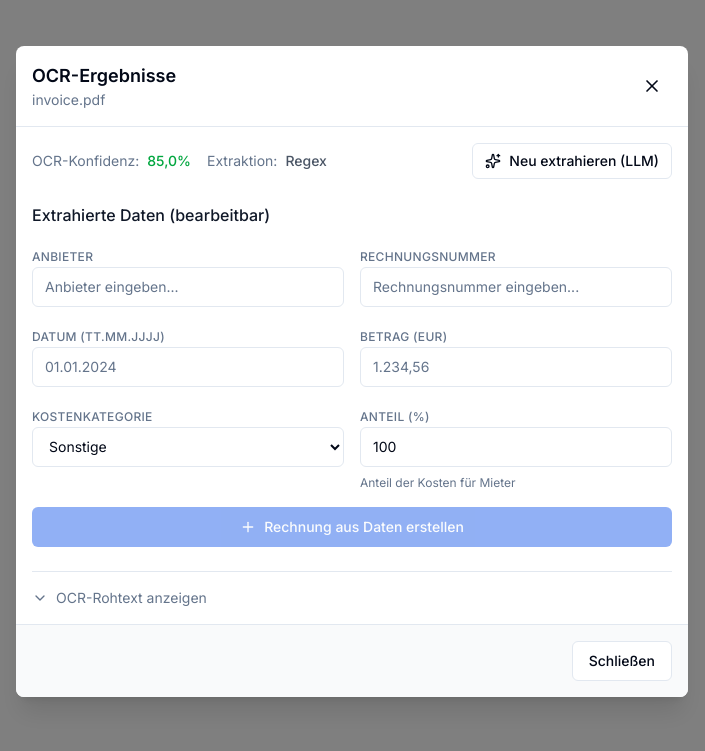
OcrModal › raw text toggle › toggles raw text visibility
Expected: the text "Raw OCR content here" is not shown
Click to show
Click the button "OCR-Rohtext anzeigen" at (119, 598), box [32,588,207,608]
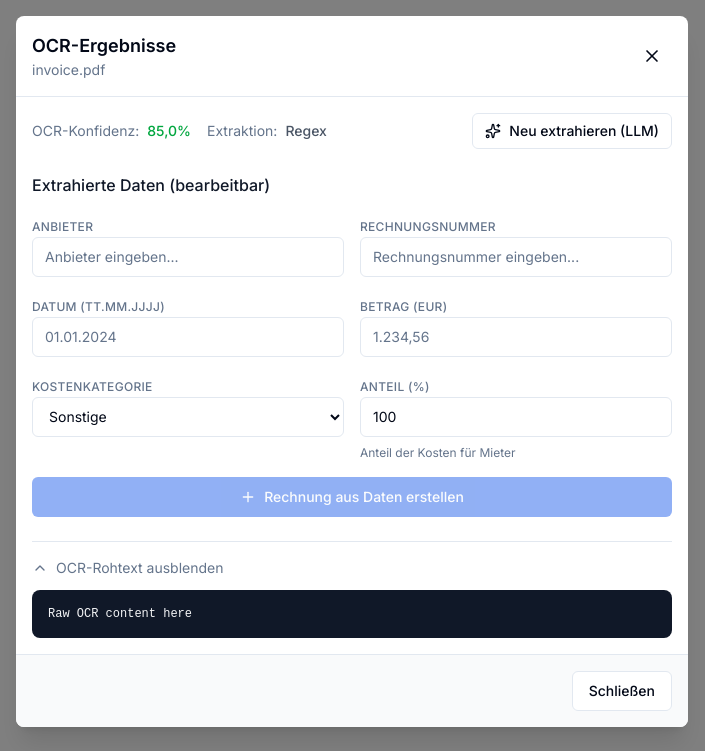
Result: the text "Raw OCR content here" is shown at [32,590,672,638]
Result: the button "OCR-Rohtext ausblenden" is shown at [32,558,224,578]
